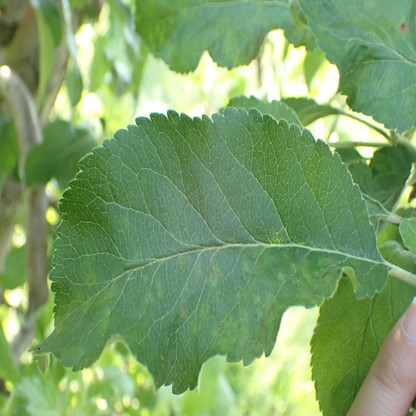frogeye_leaf_spot: (399, 21, 407, 33)
scab: (244, 292, 287, 365), (215, 18, 245, 65), (213, 308, 246, 350), (148, 8, 179, 49), (370, 69, 397, 116), (314, 21, 341, 55), (238, 246, 270, 274), (299, 260, 328, 288), (293, 275, 317, 308), (192, 302, 209, 338), (70, 290, 91, 313), (402, 83, 416, 117), (100, 308, 115, 338), (96, 283, 117, 304), (204, 264, 221, 288), (319, 254, 337, 274), (62, 346, 85, 361), (54, 308, 67, 334), (325, 13, 344, 28), (206, 38, 219, 56), (153, 277, 162, 299), (180, 296, 188, 319), (233, 346, 245, 360), (86, 270, 97, 284), (234, 288, 243, 303), (144, 293, 152, 307), (276, 272, 284, 283), (179, 257, 186, 268), (282, 251, 289, 261), (290, 261, 296, 272), (143, 274, 149, 281)
